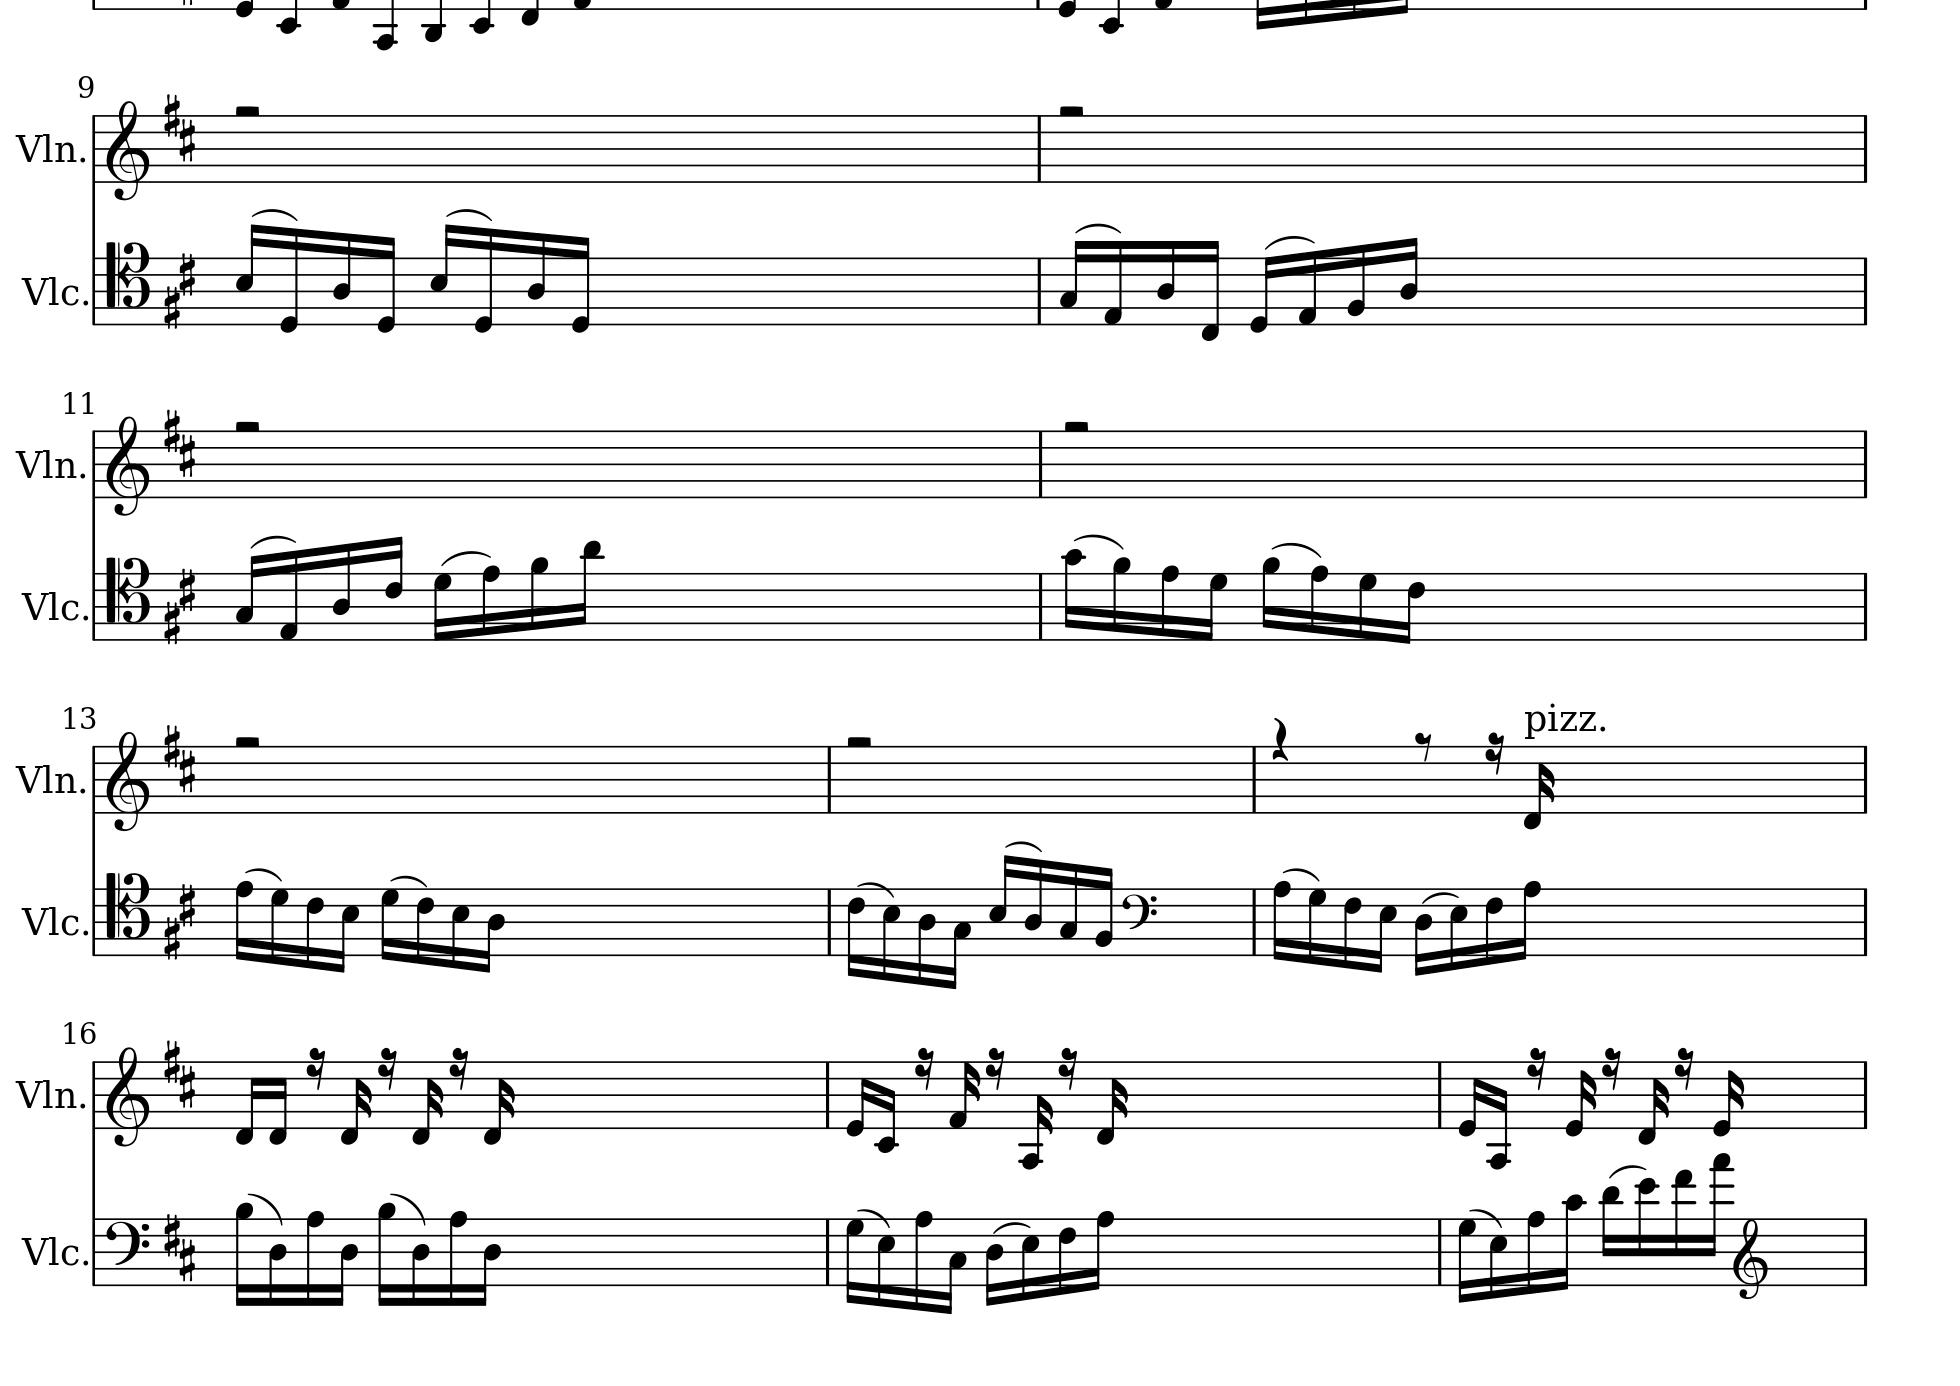1: (79, 388, 94, 417), (61, 388, 76, 415), (63, 703, 76, 730), (63, 1018, 76, 1045)
16_-1: (481, 1057, 516, 1146), (1095, 1057, 1129, 1146), (1522, 744, 1555, 831), (411, 1059, 444, 1146), (1638, 1059, 1671, 1146), (339, 1059, 372, 1144), (1200, 237, 1224, 343), (232, 1057, 261, 1146), (267, 1059, 289, 1144)
16_-2: (873, 1059, 900, 1152)
16_-4: (1018, 1059, 1056, 1171), (1486, 1057, 1515, 1171)
16_0: (277, 225, 301, 336), (472, 225, 496, 336), (1711, 1057, 1744, 1137), (1564, 1057, 1596, 1135), (1248, 253, 1278, 334), (373, 234, 397, 334), (568, 234, 592, 334), (843, 1057, 871, 1137), (1456, 1059, 1485, 1138)
16_1: (948, 1059, 981, 1129), (276, 547, 300, 643), (1101, 238, 1125, 327), (1294, 247, 1320, 327)
16_10: (1558, 1192, 1588, 1291), (1062, 547, 1086, 640)
16_11: (571, 538, 601, 643), (1599, 1183, 1623, 1288)
16_12: (1635, 1176, 1659, 1287)
16_13: (1671, 1168, 1696, 1285)
16_15: (1705, 1153, 1734, 1285)
16_2: (1092, 862, 1114, 955), (1344, 241, 1368, 325)
16_3: (943, 886, 972, 991), (940, 1216, 967, 1315), (232, 552, 262, 640), (1057, 238, 1086, 325), (1057, 859, 1080, 955)
16_4: (475, 1216, 502, 1308), (478, 886, 505, 973), (333, 1216, 358, 1308), (525, 229, 549, 325), (1023, 856, 1045, 955), (331, 229, 354, 325), (916, 886, 937, 988), (331, 540, 352, 640), (1155, 238, 1177, 325), (984, 1215, 1005, 1308), (1413, 885, 1434, 976), (267, 1216, 288, 1308), (409, 1216, 430, 1308), (1399, 235, 1420, 325)
16_5: (232, 222, 262, 327), (427, 222, 457, 327), (987, 852, 1017, 955), (331, 886, 361, 973), (1371, 886, 1398, 973), (880, 886, 901, 982), (874, 1216, 895, 1311), (1447, 886, 1470, 972), (448, 886, 471, 970), (1020, 1216, 1041, 1302), (1488, 1216, 1509, 1300)
16_6: (382, 534, 405, 642), (1399, 570, 1425, 645), (1056, 1215, 1078, 1297), (846, 886, 865, 979), (304, 885, 325, 970), (1342, 886, 1363, 970), (1483, 885, 1504, 967), (415, 886, 436, 967)
16_7: (1201, 570, 1228, 643), (844, 1213, 864, 1306), (1456, 1213, 1476, 1306), (268, 885, 289, 969), (1306, 885, 1327, 967), (379, 885, 400, 964), (1357, 568, 1378, 643), (432, 570, 453, 643)
16_8: (912, 1207, 934, 1315), (1513, 879, 1542, 961), (1086, 1209, 1114, 1291), (447, 1209, 469, 1308), (304, 1207, 325, 1309), (1272, 879, 1293, 963), (1525, 1209, 1545, 1297), (481, 562, 502, 642), (234, 879, 253, 963), (1161, 562, 1180, 642), (1309, 564, 1329, 642)
16_9: (234, 1200, 255, 1306), (376, 1201, 397, 1306), (528, 553, 549, 643), (1111, 553, 1131, 642), (1261, 555, 1281, 642)
3: (79, 703, 97, 730)
6: (79, 1017, 96, 1045)
9: (78, 72, 94, 97)
D_S: (162, 565, 198, 643), (162, 250, 198, 327), (162, 882, 198, 958), (162, 406, 198, 477), (160, 723, 196, 793), (162, 1038, 196, 1108), (162, 1210, 196, 1281), (162, 91, 196, 160)
Fclef: (103, 1216, 150, 1285), (1120, 886, 1158, 955)
Gclef: (103, 414, 148, 517), (103, 1044, 148, 1147), (105, 97, 148, 201), (105, 729, 148, 832), (1732, 1216, 1770, 1300)
Rests16: (912, 1047, 936, 1093), (1483, 730, 1506, 778), (448, 1045, 471, 1092), (984, 1047, 1006, 1093), (1057, 1045, 1080, 1092), (1525, 1047, 1548, 1093), (1600, 1047, 1623, 1093), (1674, 1047, 1696, 1093), (304, 1047, 327, 1092), (376, 1047, 399, 1092)
Rests2: (1053, 99, 1089, 123), (1059, 415, 1095, 439), (843, 730, 876, 753), (229, 415, 264, 436), (229, 100, 262, 121), (229, 730, 262, 751)
Rests4: (1270, 715, 1290, 760)
Rests8: (1413, 729, 1434, 762)
Single_barline: (1857, 1060, 1875, 1126), (1857, 1218, 1873, 1285), (1032, 115, 1048, 181), (1857, 115, 1873, 181), (1032, 256, 1048, 322), (1857, 430, 1873, 496), (1032, 430, 1048, 496), (1033, 571, 1050, 637), (1857, 573, 1873, 639), (820, 745, 837, 811), (1857, 745, 1873, 811), (1857, 258, 1873, 322), (1857, 889, 1873, 954), (822, 888, 837, 955), (1248, 888, 1263, 954), (85, 258, 100, 322), (85, 573, 100, 637), (1246, 747, 1261, 811), (820, 1219, 835, 1284), (87, 888, 100, 954), (1434, 1219, 1447, 1284), (88, 114, 100, 181), (88, 745, 100, 813), (88, 1060, 100, 1128), (88, 1218, 100, 1285), (88, 430, 100, 496)
Slur: (247, 1191, 285, 1225), (390, 1191, 427, 1225), (1074, 532, 1125, 549), (1273, 541, 1323, 558), (441, 549, 490, 565), (1264, 234, 1315, 249), (858, 1207, 891, 1228), (1470, 1207, 1503, 1228), (250, 207, 298, 220), (1074, 220, 1122, 234), (244, 865, 283, 882), (250, 534, 297, 547), (859, 880, 894, 898), (447, 207, 492, 220), (1008, 838, 1044, 853), (1284, 865, 1320, 880), (994, 1219, 1030, 1234), (1423, 889, 1458, 904), (1611, 1162, 1645, 1177), (390, 874, 429, 886)
Tensor_Cclef: (103, 238, 151, 325), (103, 555, 151, 640), (103, 870, 151, 955)
Vlc: (19, 268, 79, 312), (19, 583, 79, 627), (19, 1230, 78, 1273), (19, 898, 79, 940)
Vln: (13, 442, 78, 489), (15, 126, 76, 172), (15, 759, 76, 804), (15, 1074, 78, 1116)
